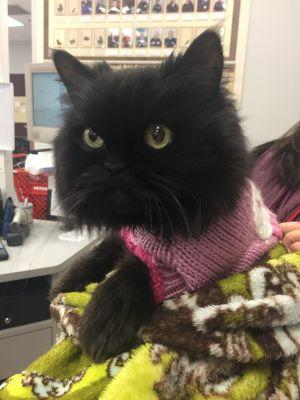persian: (33, 28, 265, 241)
